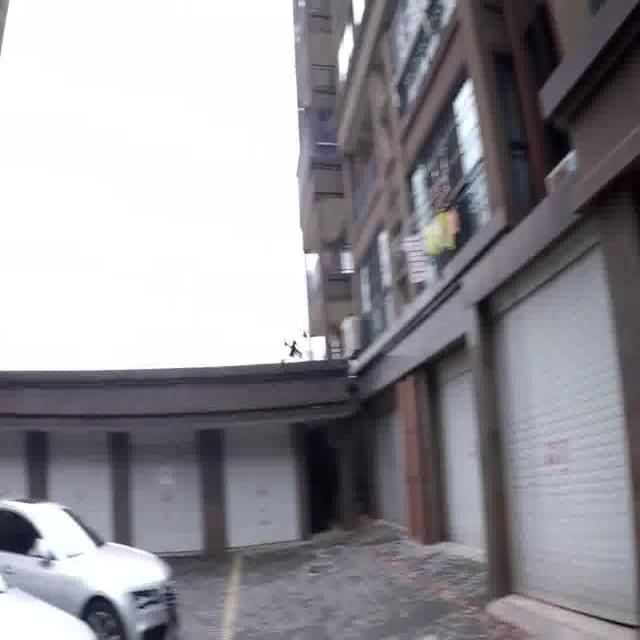drone: (268, 324, 314, 369)
